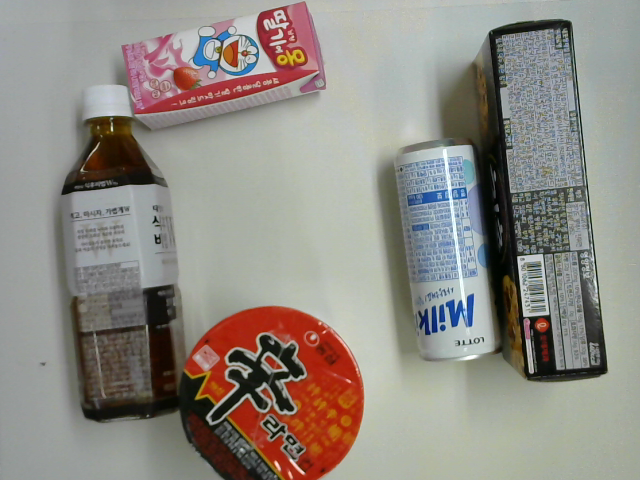Chicchok_Original_2400: (470, 18, 612, 385)
Milkies_250ml: (393, 137, 502, 361)
Post-meal_recipe_W_tea_500ml: (59, 82, 187, 424)
Sinramen_small: (177, 305, 365, 480)
Strawberry_E_Mong: (118, 1, 330, 135)
